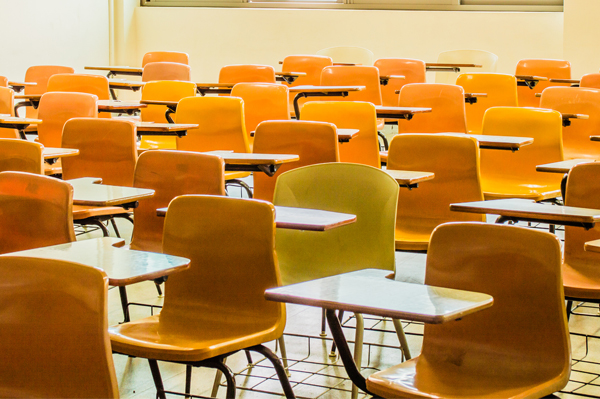desk_065.jpg: (245, 205, 582, 395)
